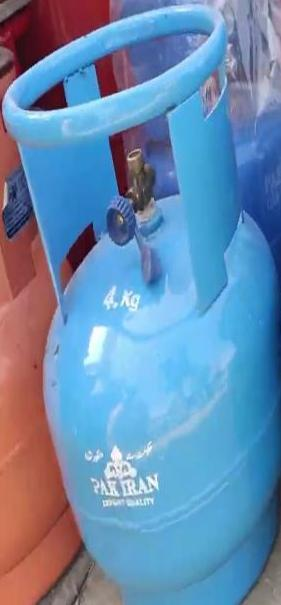cylinder: (1, 1, 281, 605)
